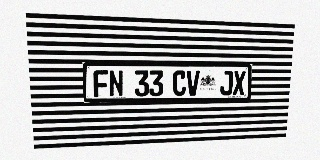3: (135, 70, 149, 97), (149, 70, 163, 96)
C: (173, 70, 186, 96)
F: (93, 70, 109, 97)
J: (220, 71, 233, 95)
N: (109, 70, 123, 97)
V: (186, 70, 200, 96)
X: (232, 71, 246, 95)
